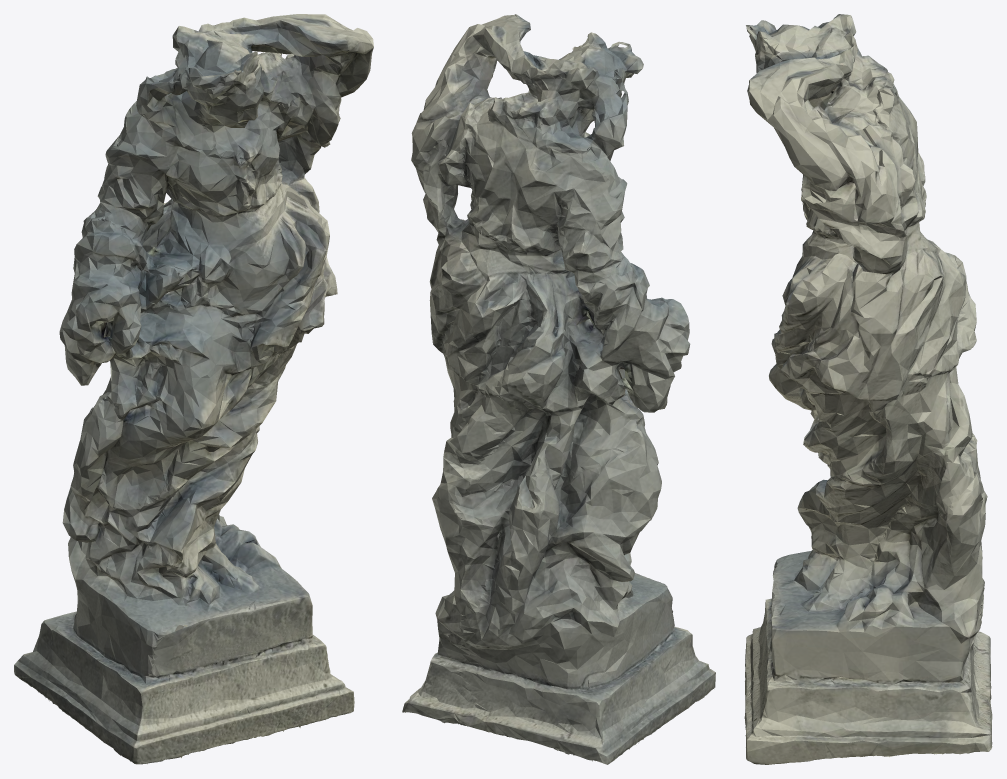
Rendered from lehkomyslnost4.glb.
3 renders of one model, left to right at view 1: azimuth 30°, elevation 25°; view 2: azimuth 150°, elevation 25°; view 3: azimuth 270°, elevation 25°, orthographic. The views are drawn at different scales.
Parts seen in each view (by area): view 1: Lehkomyslnost; view 2: Lehkomyslnost; view 3: Lehkomyslnost.
Boxes of the visible parts, x1,y1,x2,y2 form: Lehkomyslnost: (14, 14, 373, 764); Lehkomyslnost: (402, 14, 715, 764); Lehkomyslnost: (744, 14, 992, 764).
Bounding box in the file's own units: 1.12 × 2.57 × 0.8389.
1 material, 1 textured.
